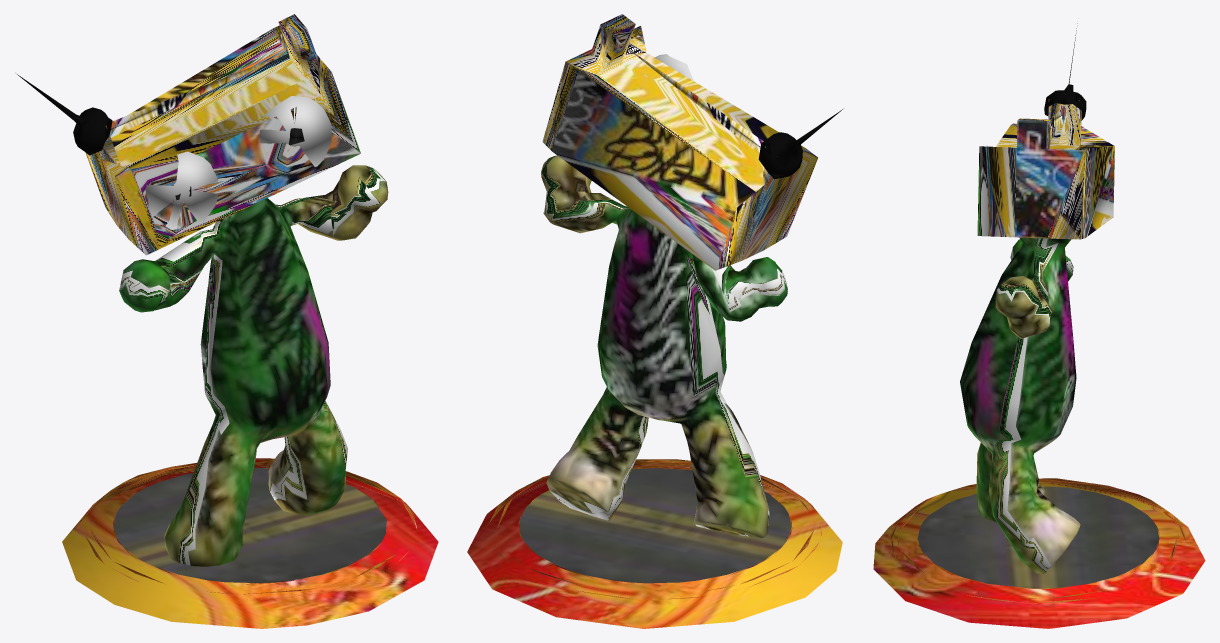
The picture shows the model from 3 angles, left to right: view 1: azimuth 30°, elevation 25°; view 2: azimuth 150°, elevation 25°; view 3: azimuth 270°, elevation 25°; orthographic projection. The views are drawn at different scales.
Bounding box in the file's own units: 1.66 × 2.19 × 1.44.
Materials: 7 (4 with a texture image).
